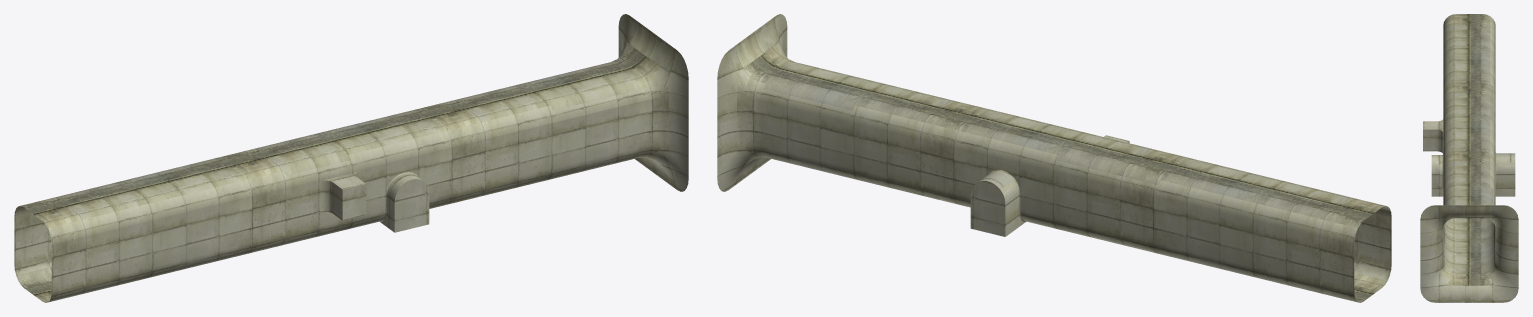
Rendered from CouloirTouffu_Block_00.fbx.
The picture shows the model from 3 angles, left to right: view 1: azimuth 30°, elevation 25°; view 2: azimuth 150°, elevation 25°; view 3: azimuth 270°, elevation 25°; orthographic projection. The views are drawn at different scales.
Visible parts, largest first — view 1: CouloirTouffu_Block_00; view 2: CouloirTouffu_Block_00; view 3: CouloirTouffu_Block_00.
Part boxes in pixels (x1,y1,x2,y2): CouloirTouffu_Block_00: (14,14,688,302); CouloirTouffu_Block_00: (717,14,1391,302); CouloirTouffu_Block_00: (1420,14,1518,302).
Bounding box in the file's own units: 3858 × 831 × 756.
